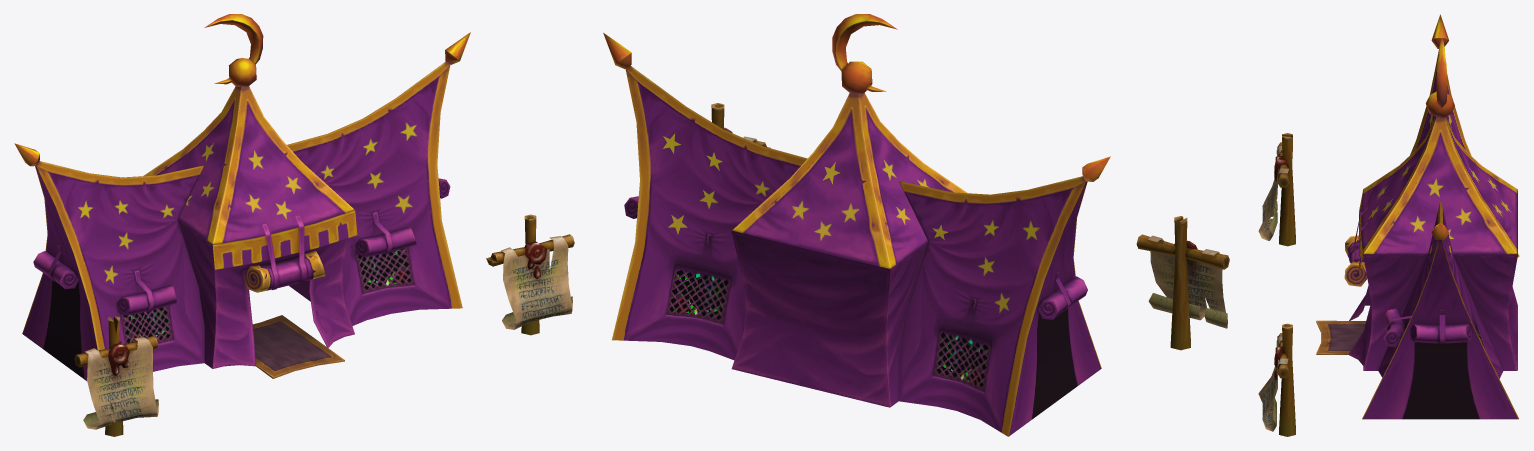
Rendered from tent_magic.FBX.
3 views of the same model, side by side, from view 1: azimuth 30°, elevation 25°; view 2: azimuth 150°, elevation 25°; view 3: azimuth 270°, elevation 25° (orthographic). The views are drawn at different scales.
Parts seen in each view (by area): view 1: tent_magic, magic_scroll_01, magic_scroll_02; view 2: tent_magic, magic_scroll_01; view 3: tent_magic, magic_scroll_02, magic_scroll_01.
Boxes of the visible parts, x1,y1,x2,y2 form: tent_magic: (14,14,470,380); magic_scroll_01: (74,316,158,436); magic_scroll_02: (486,214,574,335); tent_magic: (603,14,1110,436); magic_scroll_01: (1136,216,1229,350); tent_magic: (1316,14,1519,419); magic_scroll_02: (1258,323,1295,436); magic_scroll_01: (1258,133,1295,246).
Size of the model in its own units: 104 by 62.44 by 50.75.
